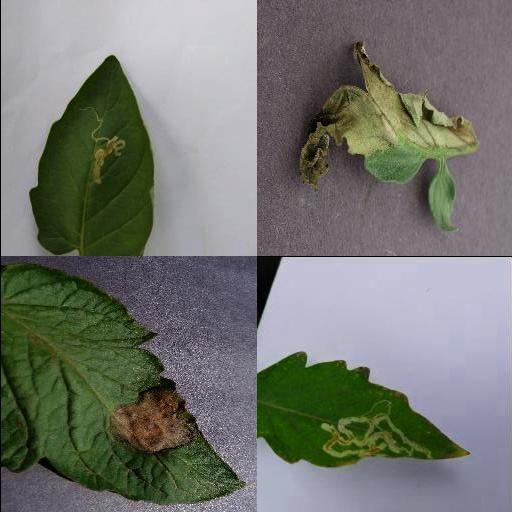Late Blight: (0, 260, 249, 505), (296, 43, 474, 193)
Leaf Miner: (26, 55, 154, 256), (256, 351, 472, 469)
